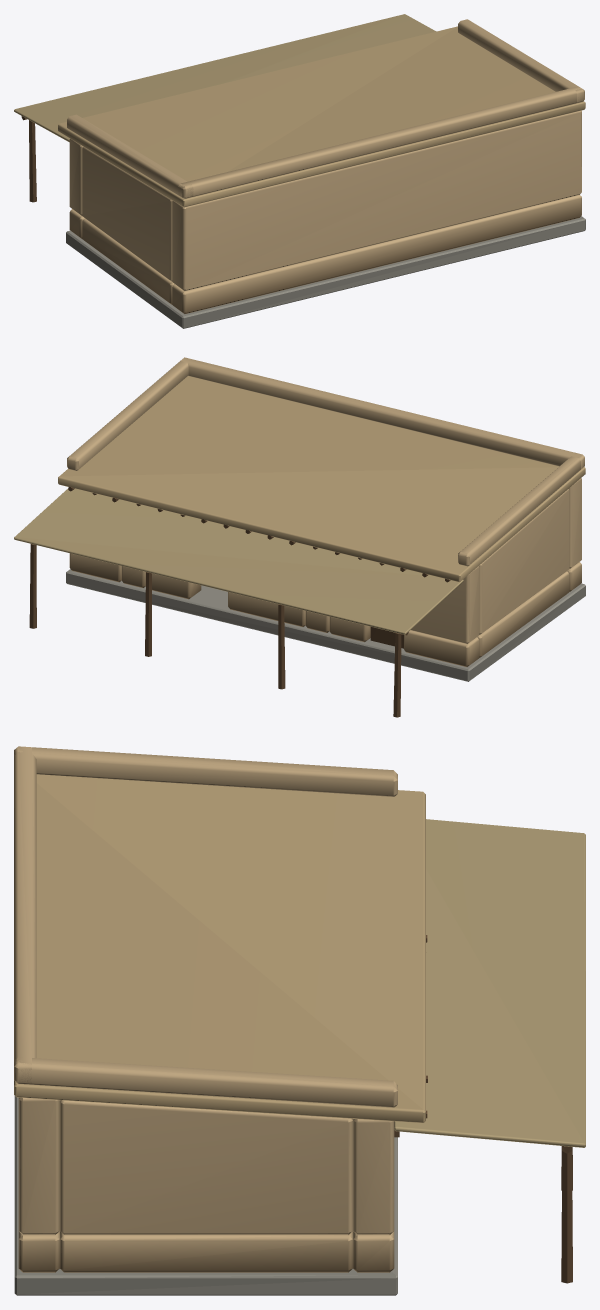
File: hx_casa_adobe_grande.glb
3 renders of one model, top to bottom at view 1: azimuth 30°, elevation 25°; view 2: azimuth 150°, elevation 25°; view 3: azimuth 270°, elevation 25°, orthographic. The views are drawn at different scales.
Visible parts, largest first — view 1: hx_casa_adobe_grande_geometry; view 2: hx_casa_adobe_grande_geometry; view 3: hx_casa_adobe_grande_geometry.
Boxes of the visible parts, x1,y1,x2,y2 form: hx_casa_adobe_grande_geometry: (14, 14, 585, 328); hx_casa_adobe_grande_geometry: (14, 357, 585, 717); hx_casa_adobe_grande_geometry: (14, 746, 585, 1295).
Bounding box in the file's own units: 10.1 × 3.4 × 7.61.
